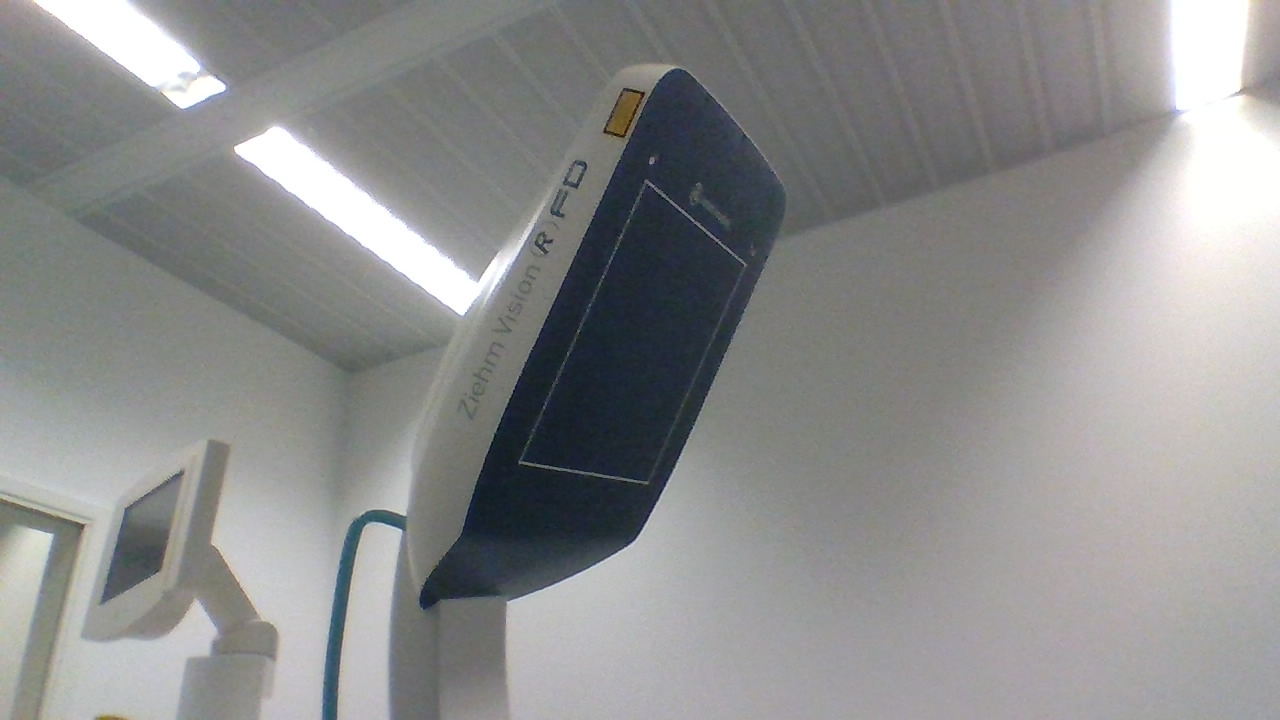carmSCREEN: (79, 435, 231, 644)
carmUP: (405, 61, 791, 619)
